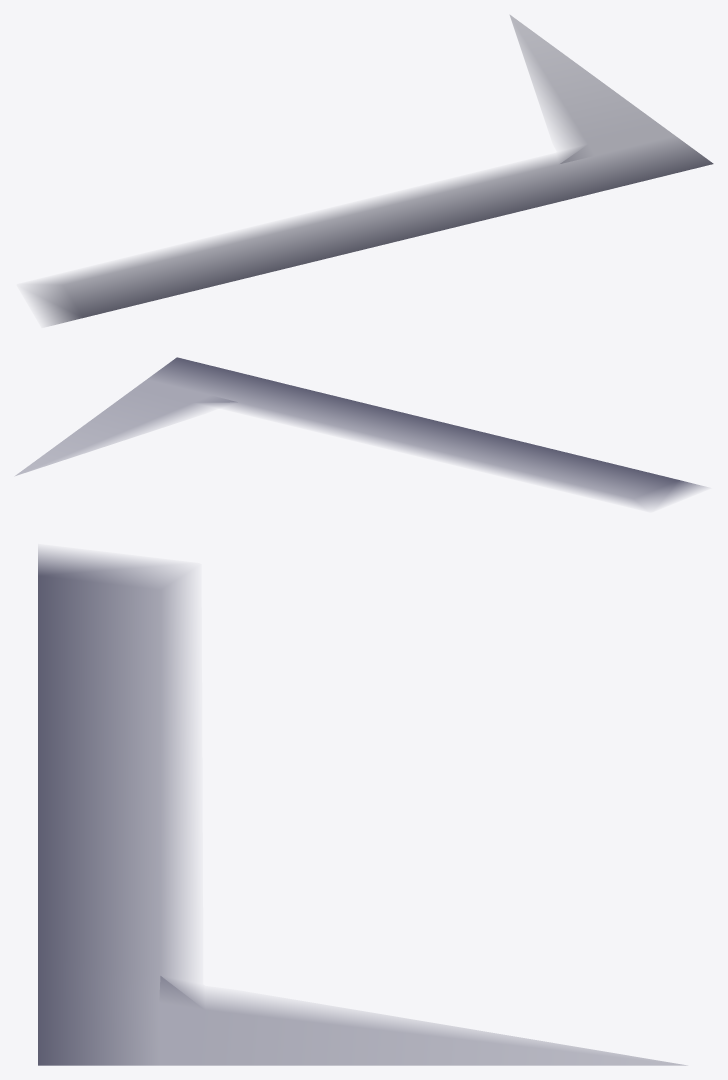
The picture shows the model from 3 angles, top to bottom: view 1: azimuth 30°, elevation 25°; view 2: azimuth 150°, elevation 25°; view 3: azimuth 270°, elevation 25°; orthographic projection. The views are drawn at different scales.
Visible parts, largest first — view 1: Joint_0_Object_0; view 2: Joint_0_Object_0; view 3: Joint_0_Object_0.
Part boxes in pixels (left/top/right/bottom): Joint_0_Object_0: left=29, top=15, right=713, bottom=325; Joint_0_Object_0: left=16, top=357, right=703, bottom=507; Joint_0_Object_0: left=38, top=550, right=685, bottom=1065.
Bounding box in the file's own units: 1117 × 1.34 × 587.
1 material, 1 textured.
